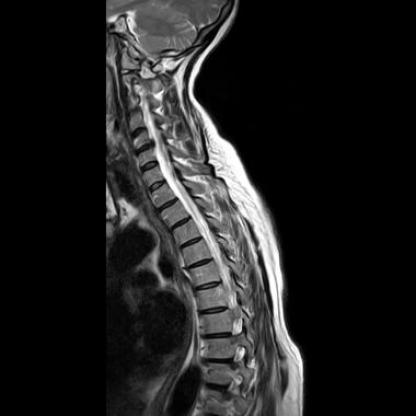Disc Bulgerotation: (133, 140, 156, 156)
